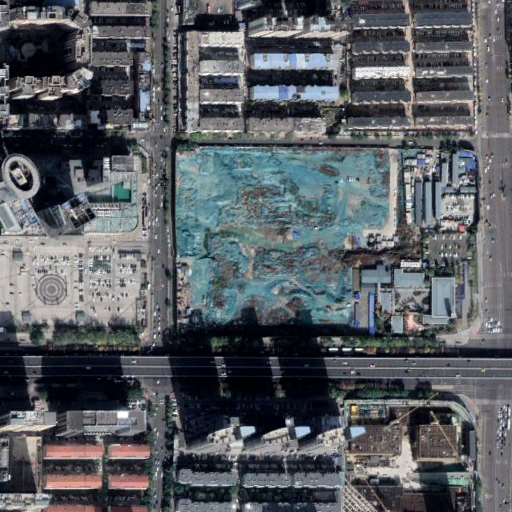cw: (173, 144, 389, 331)
